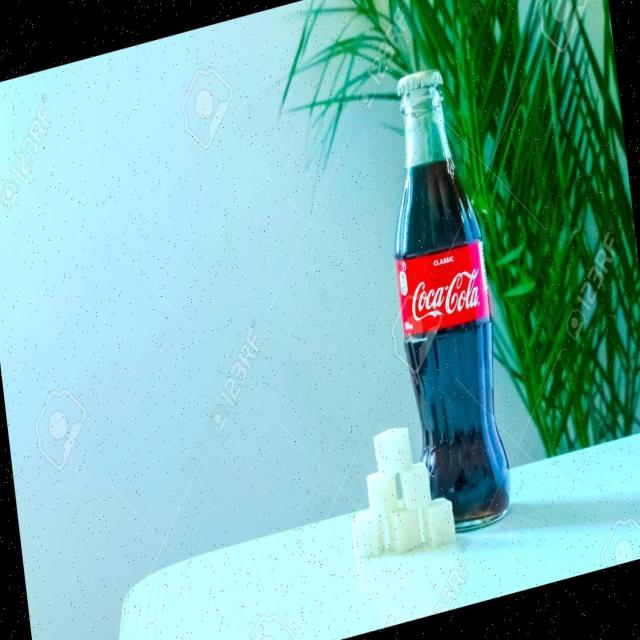coca-cola: (369, 51, 521, 541)
